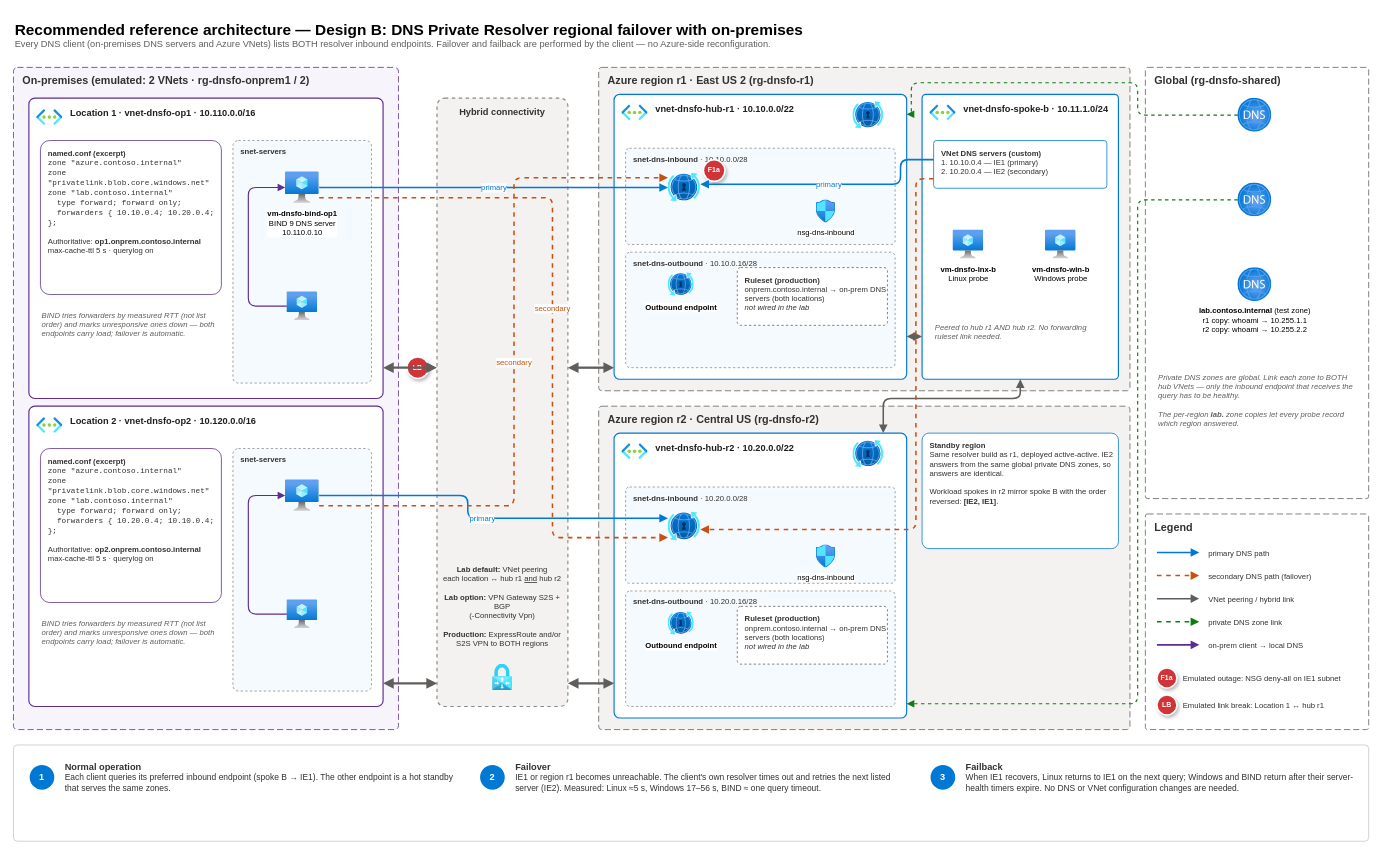
Some shapes in this 1382 by 855 pixel diagram are drawn without their labels. The shapes that lost their labels are listed below. From the top down, each one's centre as x and y in pixels, then its label:
At pixel 867 114: "dnspr-dnsfo-r1".
At pixel 1254 115: "azure.contoso.internal app1 → 10.50.0.1".
At pixel 684 187: "Inbound endpoint — IE1 10.10.0.4 (static)".
At pixel 1254 199: "privatelink.blob.core.windows.net private endpoint A records".
At pixel 301 305: "vm-dnsfo-lnx-op1 client · probe resolv.conf → 10.110.0.10".
At pixel 867 453: "dnspr-dnsfo-r2".
At pixel 302 495: "vm-dnsfo-bind-op2 BIND 9 DNS server 10.120.0.10".
At pixel 684 526: "Inbound endpoint — IE2 10.20.0.4 (static)".
At pixel 301 613: "vm-dnsfo-lnx-op2 client · probe resolv.conf → 10.120.0.10".
